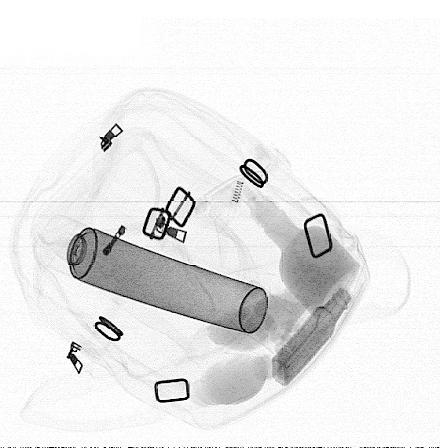Sprayer: (33, 213, 269, 334)
